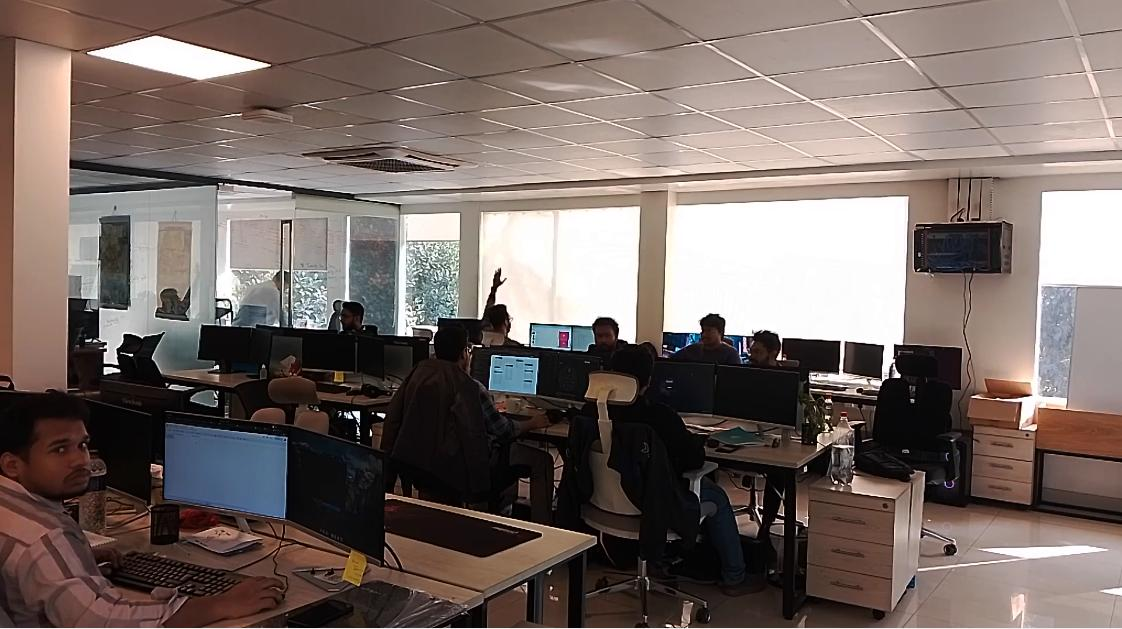hand: (483, 257, 507, 308)
